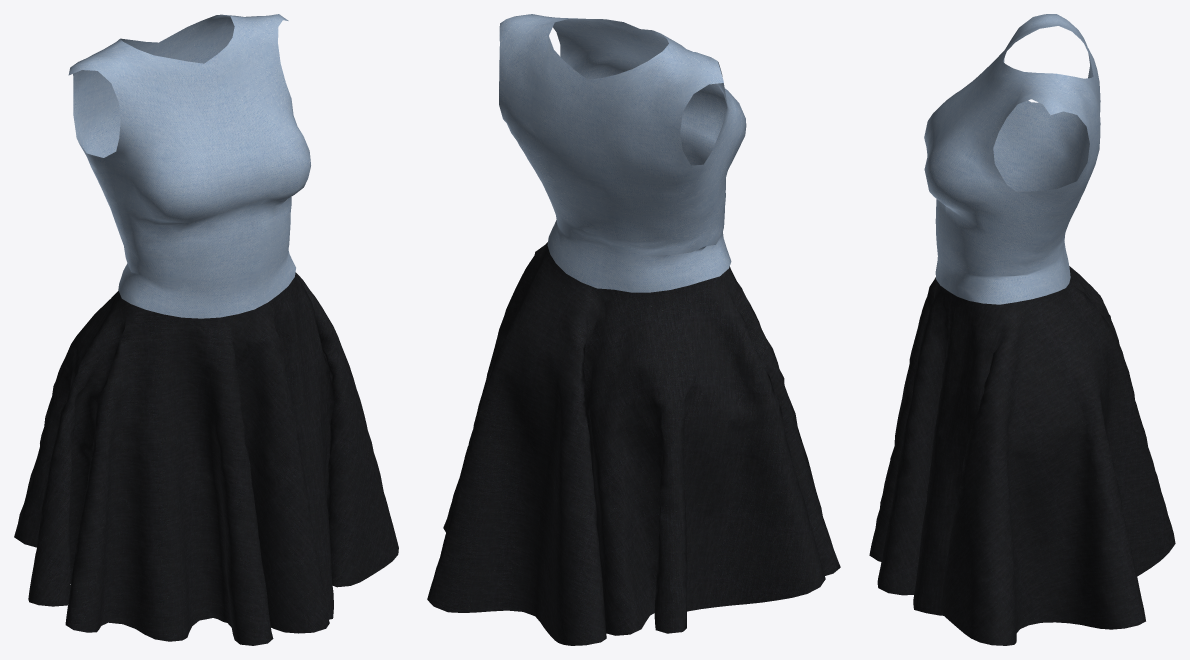
The model's file is short-denim-dress.glb.
3 views of the same model, side by side, from view 1: azimuth 30°, elevation 25°; view 2: azimuth 150°, elevation 25°; view 3: azimuth 270°, elevation 25° (orthographic). The views are drawn at different scales.
Visible parts, largest first — view 1: dress; view 2: dress; view 3: dress.
Boxes of the visible parts, <box> form: dress: <box>14,14,398,645</box>; dress: <box>427,14,840,645</box>; dress: <box>869,14,1175,645</box>.
Bounding box in the file's own units: 552 × 813 × 427.
Materials: 2 (2 with a texture image).
